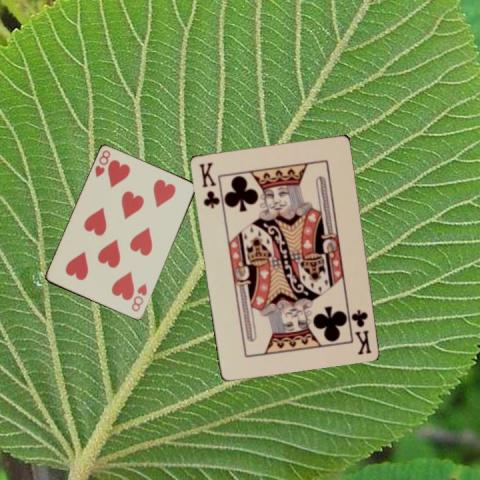8h: (128, 281, 148, 313), (92, 148, 112, 180)
Kc: (195, 159, 220, 209), (348, 307, 373, 356)
